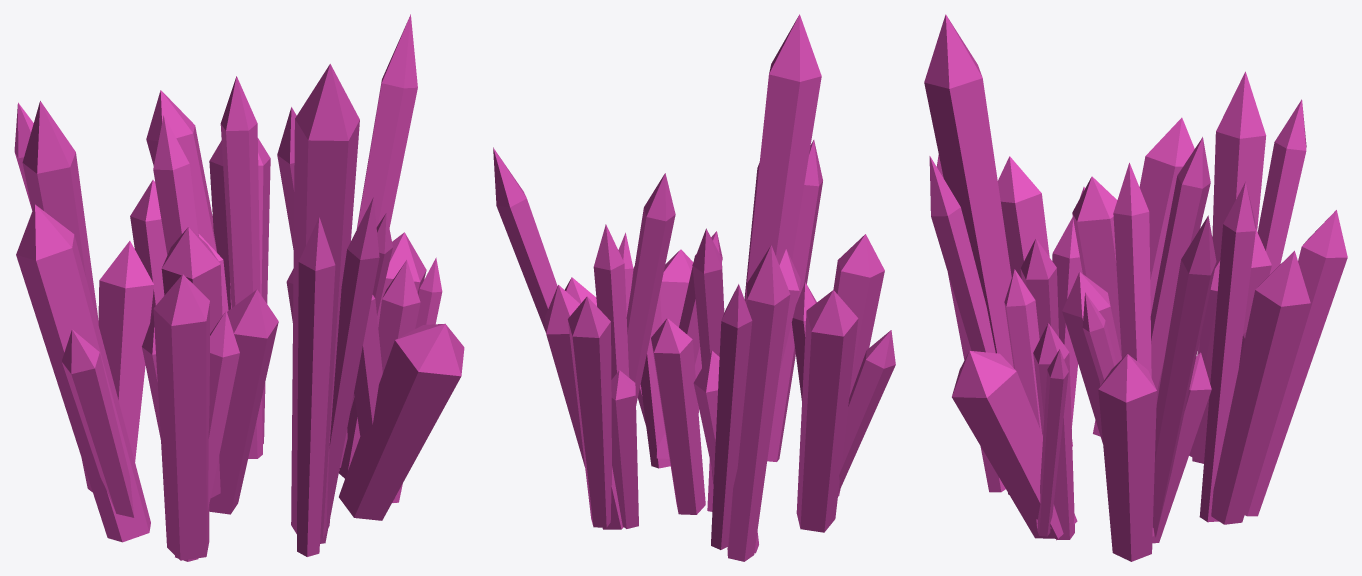
Rendered from crystals_2.fbx.
3 views of the same model, side by side, from view 1: azimuth 30°, elevation 25°; view 2: azimuth 150°, elevation 25°; view 3: azimuth 270°, elevation 25° (orthographic). The views are drawn at different scales.
Parts seen in each view (by area): view 1: crystals2.000; view 2: crystals2.000; view 3: crystals2.000.
Boxes of the visible parts, x1,y1,x2,y2 form: crystals2.000: (14,14,464,561); crystals2.000: (493,14,895,561); crystals2.000: (924,14,1347,561).
Size of the model in its own units: 421 by 511 by 407.
